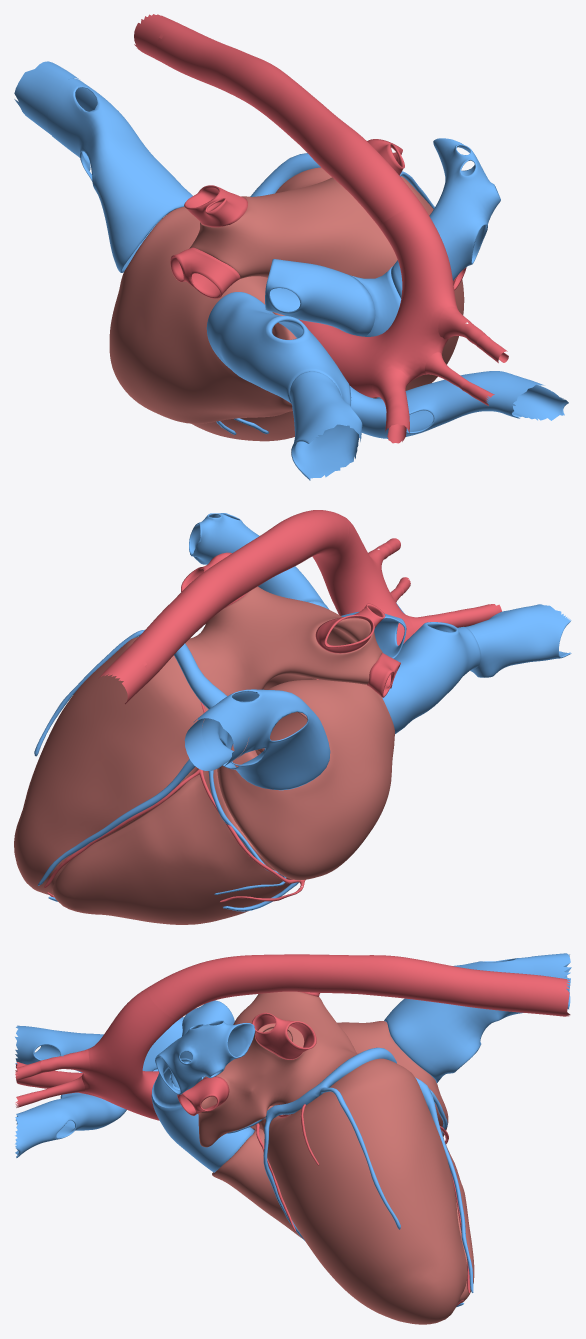
File: heart-male.glb
3 views of the same model, one above another, from view 1: azimuth 30°, elevation 25°; view 2: azimuth 150°, elevation 25°; view 3: azimuth 270°, elevation 25° (orthographic). The views are drawn at different scales.
Visible parts, largest first — view 1: VH_M_right_cardiac_atrium, VH_M_descending_aorta_a, VH_M_left_cardiac_atrium, VH_M_inferior_vena_cava_a, VH_M_aortic_arch, VH_M_superior_vena_cava, VH_M_brachiocephalic_vein_L, VH_M_pulmonary_artery_L, VH_M_pulmonary_artery_R, VH_M_brachiocephalic_vein_R, VH_M_inferior_vena_cava_b, VH_M_pulmonary_vein_R_sup (+11 smaller); view 2: VH_M_heart_left_ventricle, VH_M_right_cardiac_atrium, VH_M_heart_right_ventricle, VH_M_left_cardiac_atrium, VH_M_descending_aorta_a, VH_M_inferior_vena_cava_a, VH_M_superior_vena_cava, VH_M_brachiocephalic_vein_R, VH_M_aortic_arch, VH_M_pulmonary_artery_L, VH_M_inferior_vena_cava_b, VH_M_middle_cardiac_vein (+10 smaller); view 3: VH_M_heart_left_ventricle, VH_M_descending_aorta_a, VH_M_left_cardiac_atrium, VH_M_inferior_vena_cava_a, VH_M_aortic_arch, VH_M_pulmonary_artery_L, VH_M_brachiocephalic_vein_L, VH_M_heart_right_ventricle, VH_M_pulmonary_trunk, VH_M_brachiocephalic_vein_R, VH_M_right_cardiac_atrium, VH_M_pulmonary_vein_L_inf (+12 smaller).
Part boxes in pixels (bbox=[...]): VH_M_right_cardiac_atrium: bbox=[109, 206, 296, 423]; VH_M_descending_aorta_a: bbox=[157, 24, 424, 227]; VH_M_left_cardiac_atrium: bbox=[189, 167, 397, 278]; VH_M_inferior_vena_cava_a: bbox=[47, 78, 192, 272]; VH_M_aortic_arch: bbox=[318, 207, 457, 397]; VH_M_superior_vena_cava: bbox=[206, 292, 351, 405]; VH_M_brachiocephalic_vein_L: bbox=[350, 371, 568, 438]; VH_M_pulmonary_artery_L: bbox=[391, 138, 500, 298]; VH_M_pulmonary_artery_R: bbox=[265, 259, 375, 336]; VH_M_brachiocephalic_vein_R: bbox=[289, 371, 362, 480]; VH_M_inferior_vena_cava_b: bbox=[14, 61, 89, 134]; VH_M_pulmonary_vein_R_sup: bbox=[170, 247, 240, 298]; VH_M_heart_left_ventricle: bbox=[14, 637, 208, 895]; VH_M_right_cardiac_atrium: bbox=[217, 679, 394, 880]; VH_M_heart_right_ventricle: bbox=[52, 750, 292, 924]; VH_M_left_cardiac_atrium: bbox=[185, 586, 382, 695]; VH_M_descending_aorta_a: bbox=[118, 510, 348, 685]; VH_M_inferior_vena_cava_a: bbox=[202, 689, 330, 790]; VH_M_superior_vena_cava: bbox=[382, 622, 480, 733]; VH_M_brachiocephalic_vein_R: bbox=[466, 604, 571, 677]; VH_M_aortic_arch: bbox=[312, 516, 415, 645]; VH_M_pulmonary_artery_L: bbox=[189, 513, 324, 603]; VH_M_inferior_vena_cava_b: bbox=[184, 703, 249, 770]; VH_M_middle_cardiac_vein: bbox=[37, 759, 195, 885]; VH_M_heart_left_ventricle: bbox=[261, 1058, 467, 1324]; VH_M_descending_aorta_a: bbox=[147, 954, 532, 1020]; VH_M_left_cardiac_atrium: bbox=[198, 991, 358, 1147]; VH_M_inferior_vena_cava_a: bbox=[384, 957, 533, 1082]; VH_M_aortic_arch: bbox=[82, 988, 177, 1120]; VH_M_pulmonary_artery_L: bbox=[152, 1020, 255, 1107]; VH_M_brachiocephalic_vein_L: bbox=[15, 1092, 126, 1157]; VH_M_heart_right_ventricle: bbox=[212, 1127, 474, 1302]; VH_M_pulmonary_trunk: bbox=[151, 1059, 254, 1172]; VH_M_brachiocephalic_vein_R: bbox=[15, 1025, 103, 1072]; VH_M_right_cardiac_atrium: bbox=[337, 1021, 448, 1136]; VH_M_pulmonary_vein_L_inf: bbox=[251, 1012, 316, 1059].
Size of the model in its own units: 132 by 129 by 208.
